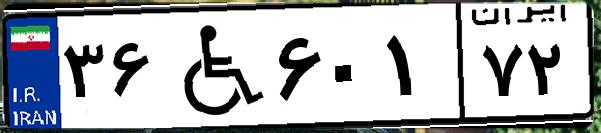0: (330, 28, 385, 110)
1: (385, 28, 445, 110)
2: (525, 38, 570, 115)
3: (57, 26, 110, 100)
6: (270, 28, 330, 110), (110, 28, 158, 98)
7: (475, 38, 525, 113)
ژ (معلولین و جانبازان): (158, 12, 270, 120)
